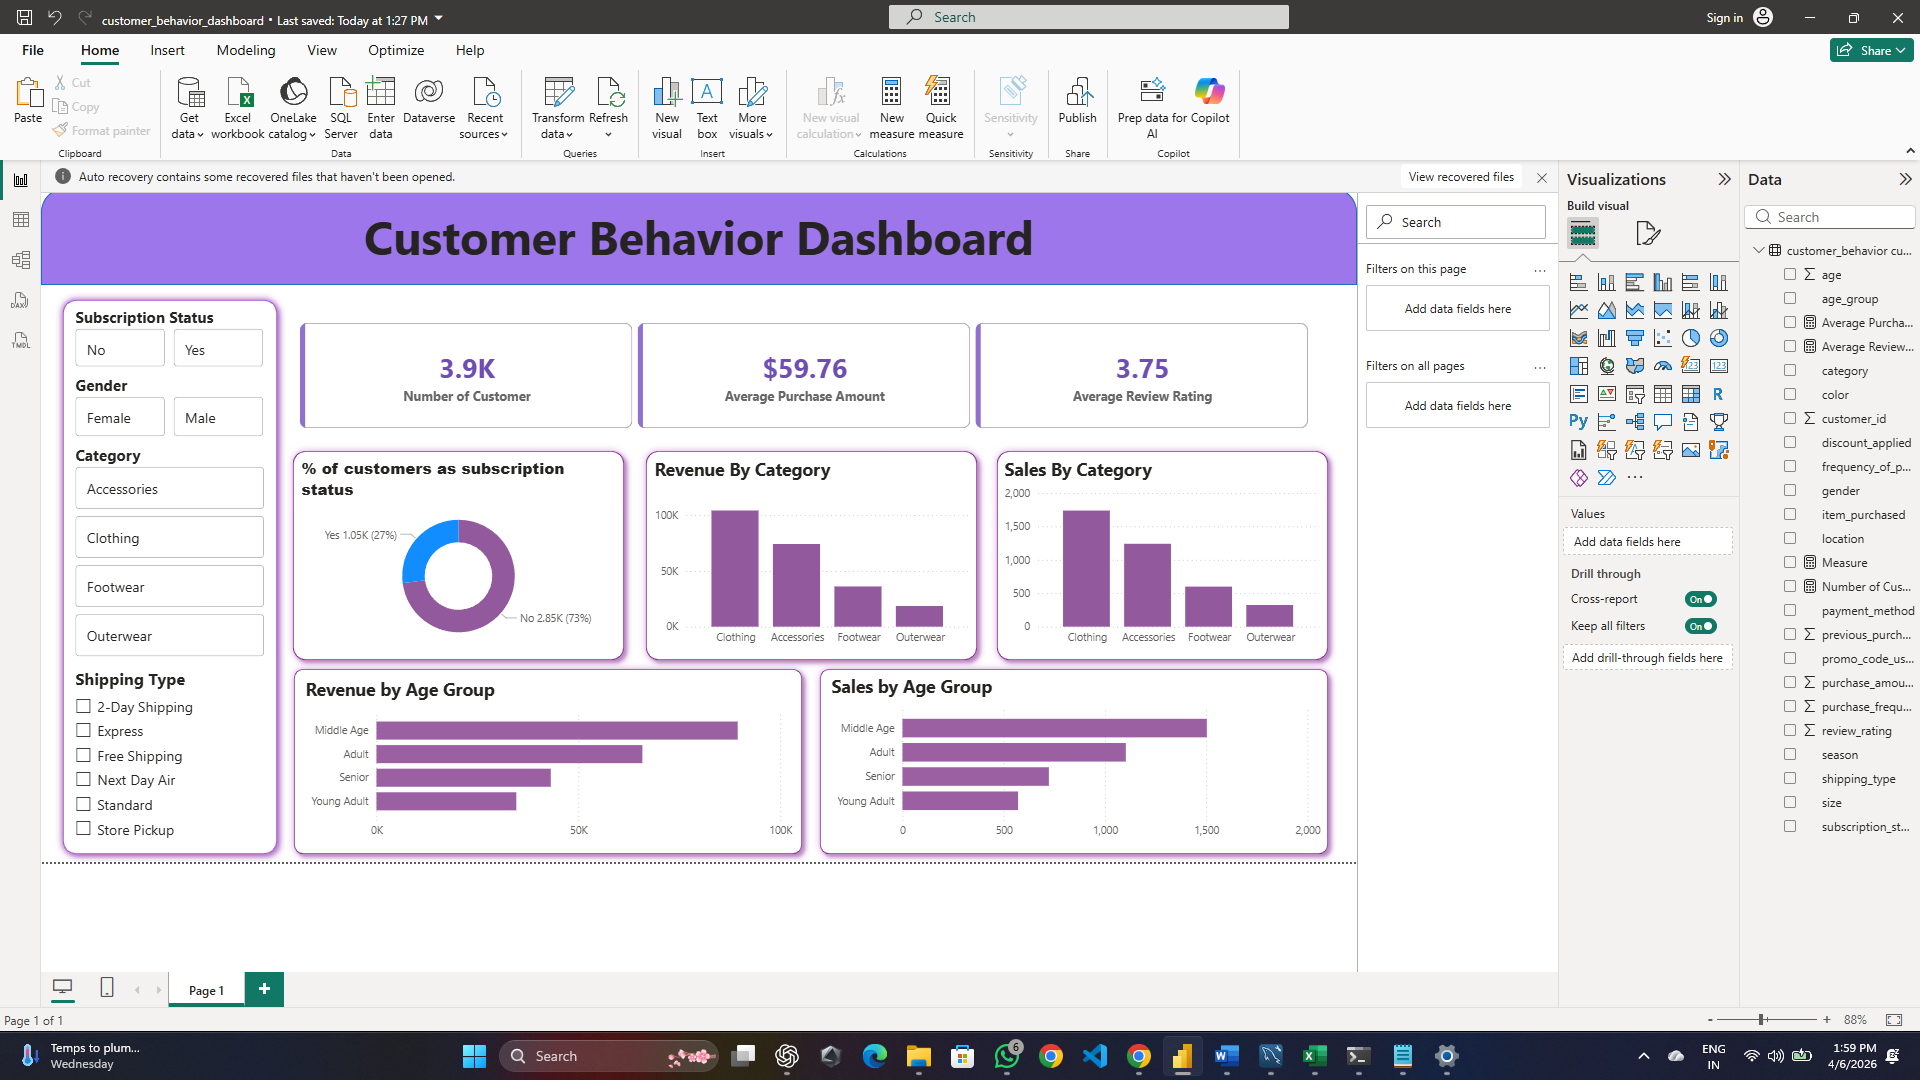

What the dashboard file says about the page in this screenshot:
{"tool":"powerbi","page":{"name":"Page 1","canvas":[1500,800],"ordinal":0},"visuals":[{"type":"cardVisual","fields":{"Data":["customer_behavior customer.Number of Customer","customer_behavior customer.Average Purchase Amount","customer_behavior customer.Average Review Rating"]},"box":[277.9,168.4,1185.6,154.2],"z":0},{"type":"shape","box":[0,31.9,1500,110.6],"z":1000},{"type":"textbox","box":[0,45.6,1500,83.2],"z":2000},{"type":"shape","box":[278.5,322.6,395.5,256.5],"z":3000},{"type":"donutChart","title":"% of customers as subscription status","fields":{"Y":["CountNonNull(customer_behavior customer.customer_id)"],"Category":["customer_behavior customer.subscription_status"]},"box":[292.3,338.6,368.2,223.4],"z":4000},{"type":"shape","box":[1080.6,322.6,395.5,256.5],"z":5000},{"type":"shape","box":[680.3,322.6,395.5,256.5],"z":6000},{"type":"clusteredColumnChart","title":"Revenue By Category","fields":{"Y":["Sum(customer_behavior customer.purchase_amount_(usd))"],"Category":["customer_behavior customer.category"]},"box":[694.1,338.6,369.3,223.4],"z":7000},{"type":"clusteredColumnChart","title":"Sales By Category","fields":{"Category":["customer_behavior customer.category"],"Y":["CountNonNull(customer_behavior customer.customer_id)"]},"box":[1093.3,338.6,369.3,223.4],"z":8000},{"type":"shape","box":[16,150.5,262.2,649.7],"z":9000},{"type":"advancedSlicerVisual","title":"Subscription Status","fields":{"Values":["customer_behavior customer.subscription_status"]},"box":[34.2,166.4,225.7,74.1],"z":10000},{"type":"advancedSlicerVisual","title":"Gender","fields":{"Values":["customer_behavior customer.gender"]},"box":[34.2,243.9,225.7,76.4],"z":11000},{"type":"advancedSlicerVisual","title":"Category","fields":{"Values":["customer_behavior customer.category"]},"box":[34.2,323.7,225.7,247.3],"z":12000},{"type":"listSlicer","title":"Shipping Type","fields":{"Values":["customer_behavior customer.shipping_type"]},"box":[34.2,577.9,225.7,204],"z":13000},{"type":"shape","box":[878.8,571,597.3,229.1],"z":14000},{"type":"clusteredBarChart","title":"Sales by Age Group","fields":{"Category":["customer_behavior customer.age_group"],"Y":["CountNonNull(customer_behavior customer.customer_id)"]},"box":[895.9,585.9,567.6,196],"z":15000},{"type":"shape","box":[279.3,571,597.3,229.1],"z":16000},{"type":"clusteredBarChart","title":"Revenue by Age Group","fields":{"Category":["customer_behavior customer.age_group"],"Y":["Sum(customer_behavior customer.purchase_amount_(usd))"]},"box":[296.4,589.3,565.3,192.6],"z":17000}]}

Visuals, with their boxes on the page's 1500x800 design canvas (x1, y1, x2, y2). These are canvas units, not pixel positions in the 1920x1080 screenshot, which may show the page scaled, cropped or inside an application window:
cardVisual - customer_behavior customer.Number of Customer x customer_behavior customer.Average Purchase Amount: {"left": 278, "top": 168, "right": 1464, "bottom": 323}
shape: {"left": 0, "top": 32, "right": 1500, "bottom": 142}
textbox: {"left": 0, "top": 46, "right": 1500, "bottom": 129}
shape: {"left": 278, "top": 323, "right": 674, "bottom": 579}
"% of customers as subscription status" donutChart: {"left": 292, "top": 339, "right": 660, "bottom": 562}
shape: {"left": 1081, "top": 323, "right": 1476, "bottom": 579}
shape: {"left": 680, "top": 323, "right": 1076, "bottom": 579}
"Revenue By Category" clusteredColumnChart: {"left": 694, "top": 339, "right": 1063, "bottom": 562}
"Sales By Category" clusteredColumnChart: {"left": 1093, "top": 339, "right": 1463, "bottom": 562}
shape: {"left": 16, "top": 150, "right": 278, "bottom": 800}
"Subscription Status" advancedSlicerVisual: {"left": 34, "top": 166, "right": 260, "bottom": 240}
"Gender" advancedSlicerVisual: {"left": 34, "top": 244, "right": 260, "bottom": 320}
"Category" advancedSlicerVisual: {"left": 34, "top": 324, "right": 260, "bottom": 571}
"Shipping Type" listSlicer: {"left": 34, "top": 578, "right": 260, "bottom": 782}
shape: {"left": 879, "top": 571, "right": 1476, "bottom": 800}
"Sales by Age Group" clusteredBarChart: {"left": 896, "top": 586, "right": 1464, "bottom": 782}
shape: {"left": 279, "top": 571, "right": 877, "bottom": 800}
"Revenue by Age Group" clusteredBarChart: {"left": 296, "top": 589, "right": 862, "bottom": 782}
